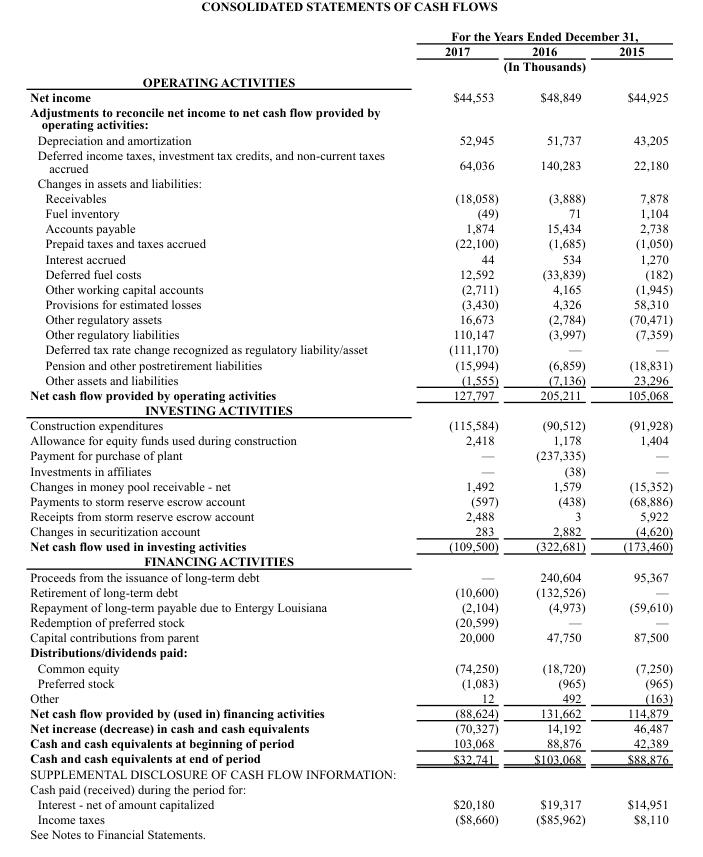table: (29, 28, 671, 825)
table column: (29, 28, 414, 825), (414, 28, 514, 825), (514, 28, 601, 825), (601, 28, 671, 825)
table column header: (29, 28, 671, 73)
table projected row header: (29, 104, 671, 131), (29, 174, 671, 190), (29, 780, 671, 796), (29, 73, 671, 88), (29, 402, 671, 417), (29, 553, 671, 568), (29, 644, 671, 659), (29, 765, 671, 780)
table row: (29, 104, 671, 131), (29, 147, 671, 174), (29, 88, 671, 104), (29, 131, 671, 147), (29, 174, 671, 190), (29, 280, 671, 296), (29, 386, 671, 402), (29, 477, 671, 493), (29, 568, 671, 584), (29, 674, 671, 690), (29, 780, 671, 796), (29, 28, 671, 43), (29, 43, 671, 58), (29, 58, 671, 73), (29, 73, 671, 88), (29, 190, 671, 205), (29, 205, 671, 220), (29, 220, 671, 235), (29, 235, 671, 250), (29, 250, 671, 265), (29, 265, 671, 280), (29, 296, 671, 311), (29, 311, 671, 326), (29, 326, 671, 341), (29, 341, 671, 356), (29, 356, 671, 371), (29, 371, 671, 386), (29, 402, 671, 417), (29, 417, 671, 432), (29, 432, 671, 447), (29, 447, 671, 462), (29, 462, 671, 477), (29, 493, 671, 508), (29, 508, 671, 523), (29, 523, 671, 538), (29, 538, 671, 553), (29, 553, 671, 568), (29, 584, 671, 599), (29, 599, 671, 614), (29, 614, 671, 629), (29, 629, 671, 644), (29, 644, 671, 659), (29, 659, 671, 674), (29, 690, 671, 705), (29, 705, 671, 720), (29, 720, 671, 735), (29, 735, 671, 750), (29, 750, 671, 765), (29, 765, 671, 780), (29, 796, 671, 811), (29, 811, 671, 825)
table spanning cell: (414, 28, 671, 43), (414, 58, 671, 73)
